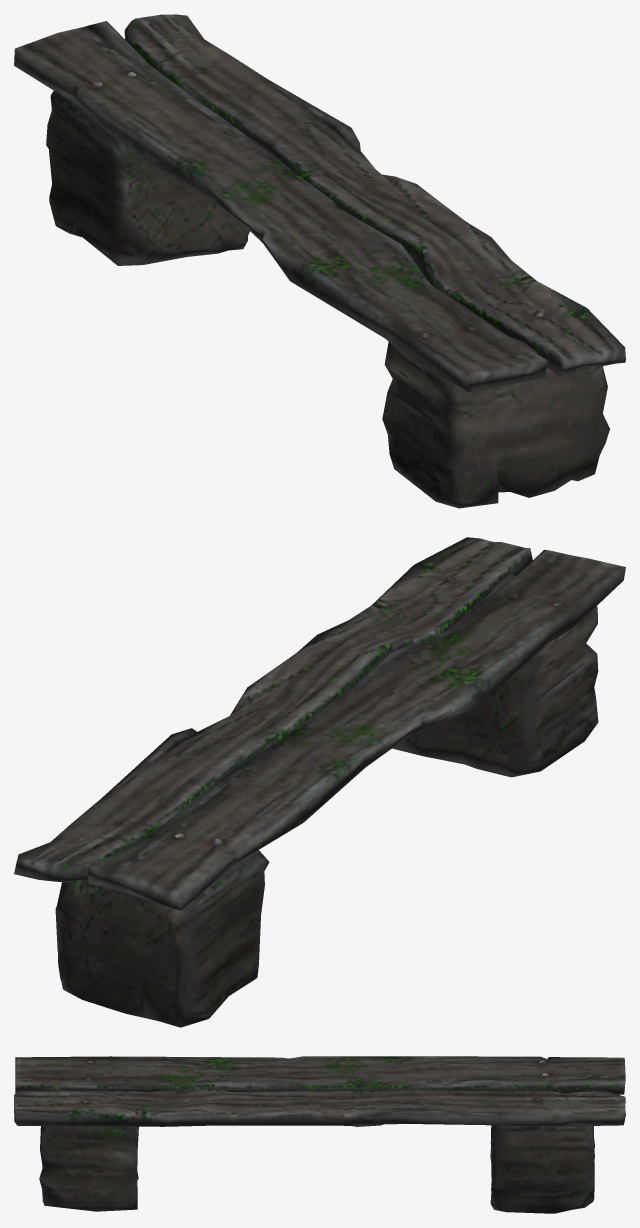
File: Bench.fbx
The picture shows the model from 3 angles, top to bottom: view 1: azimuth 30°, elevation 25°; view 2: azimuth 150°, elevation 25°; view 3: azimuth 270°, elevation 25°; orthographic projection. The views are drawn at different scales.
Visible parts, largest first — view 1: Bench_LOD0; view 2: Bench_LOD0; view 3: Bench_LOD0.
Boxes of the visible parts, x1=… form: Bench_LOD0: x1=14, y1=14, x2=625, y2=508; Bench_LOD0: x1=14, y1=537, x2=625, y2=1027; Bench_LOD0: x1=14, y1=1056, x2=625, y2=1213.
Size of what is drawn, in the model's own units: 0.459 by 1.98 by 0.4034.
